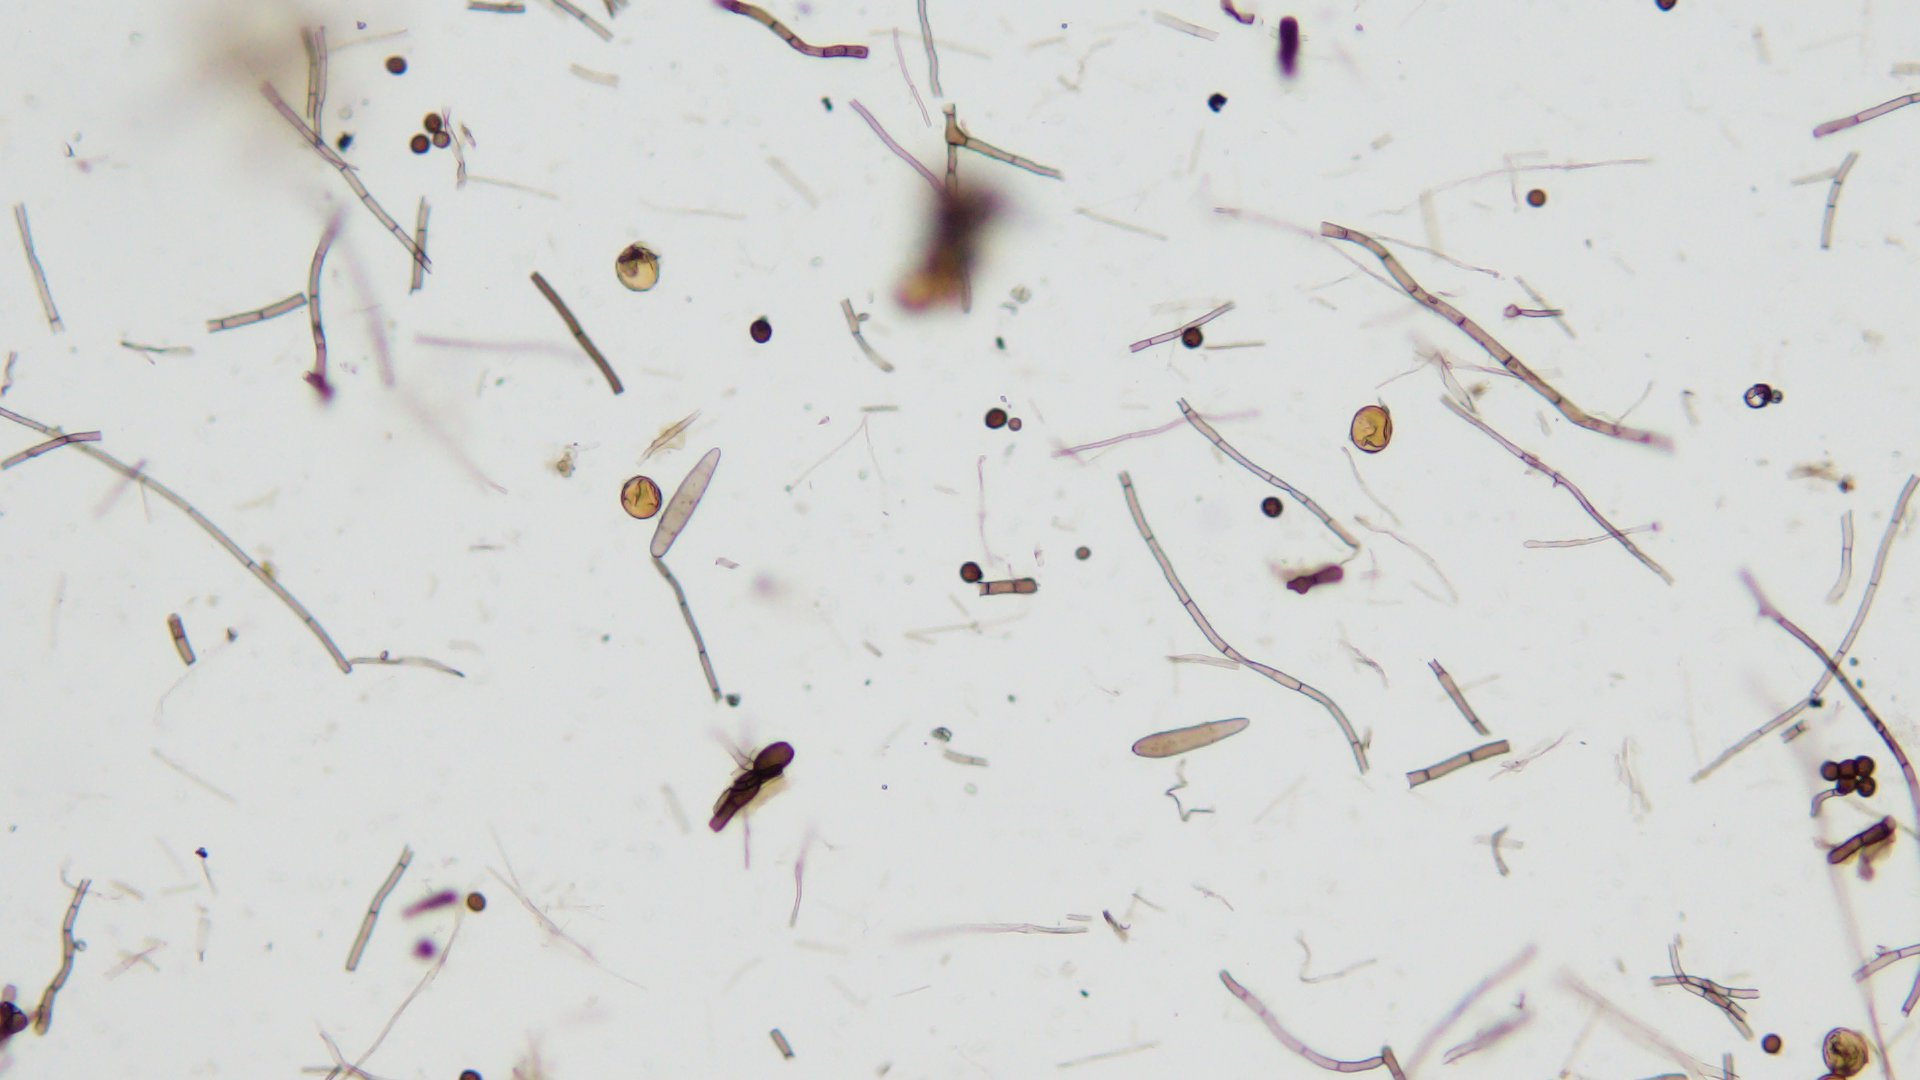dbb_spore: (649, 452, 727, 564), (1134, 717, 1250, 761)
shs_spore: (1853, 753, 1876, 777), (1760, 1030, 1783, 1055), (465, 891, 488, 915), (986, 407, 1009, 430), (961, 560, 982, 583), (752, 320, 771, 344), (1182, 328, 1203, 349), (1263, 496, 1284, 517), (385, 55, 407, 75), (1526, 189, 1547, 208), (431, 131, 451, 150), (1820, 761, 1840, 781), (425, 112, 443, 133), (1838, 757, 1857, 778), (410, 136, 429, 156), (1858, 777, 1876, 796), (1836, 778, 1855, 795)
xb_spore: (615, 245, 663, 294), (621, 471, 666, 524), (1821, 1025, 1869, 1073), (1352, 402, 1394, 454)
